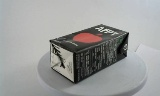appy: (45, 22, 121, 84)
